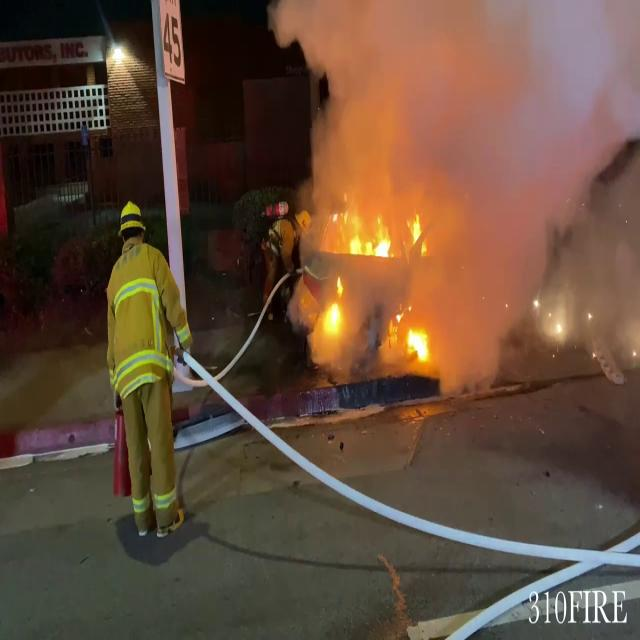Fire: (313, 200, 440, 378)
Smoke: (277, 0, 640, 383)
